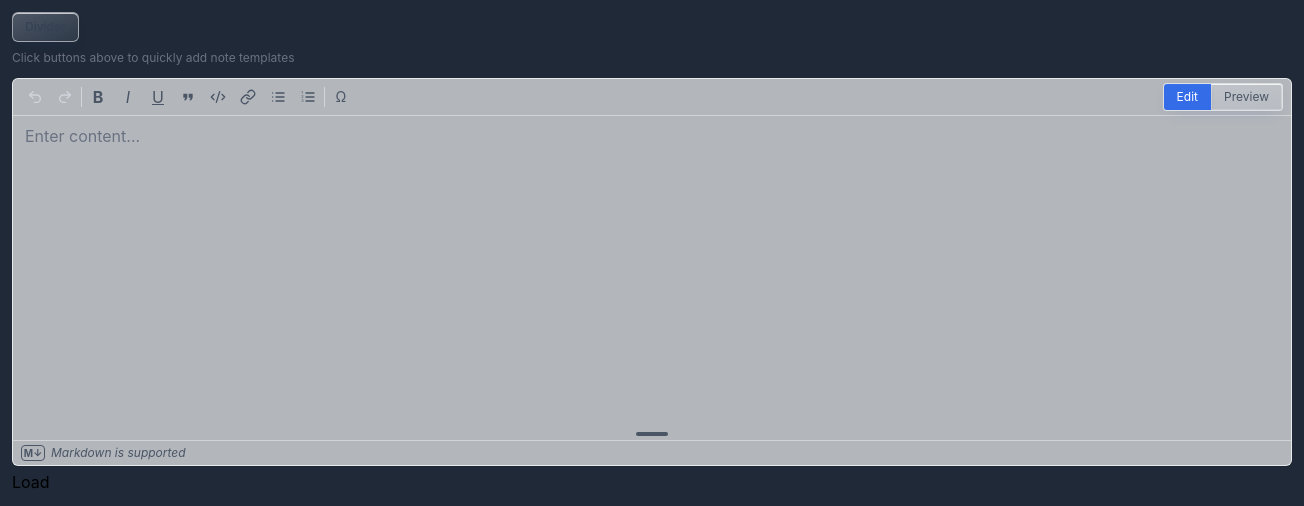
MarkdownEditorField undo / redo › undoes and redoes an inserted template as a single step
Click the button "Divider": {"x": 45, "y": 27} [12,12,79,42]
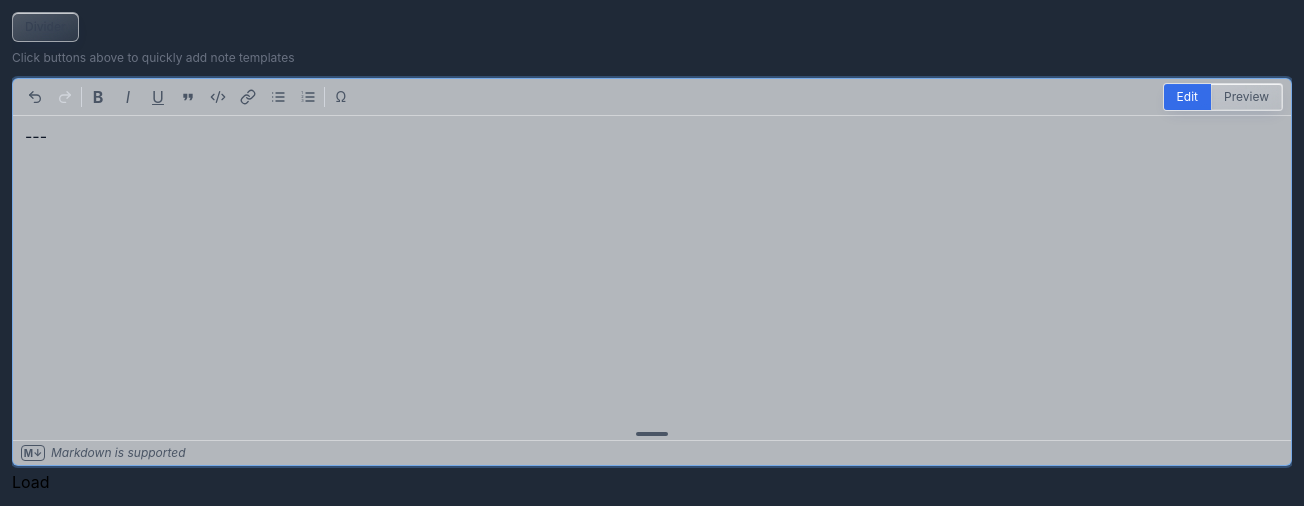
Check: the button named "Redo" is disabled, box [51,83,79,111]
Check: the text box holds "---"
Check: the button named "Undo" is enabled
Click the button named "Undo": {"x": 35, "y": 97} [21,83,49,111]
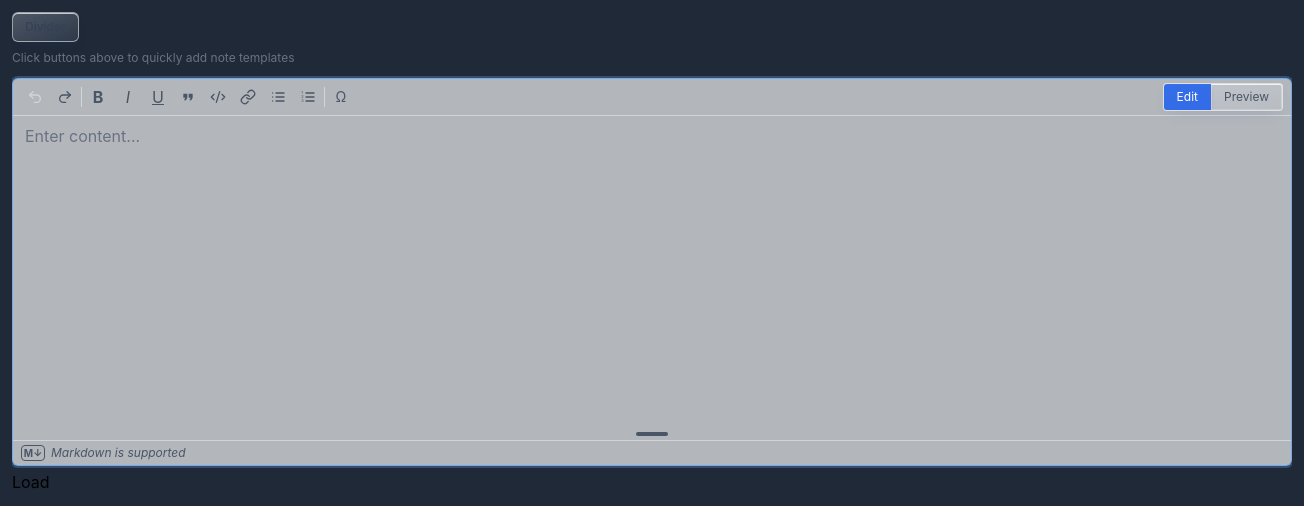
Check: the text box is empty
Check: the button named "Undo" is disabled, box [21,83,49,111]
Check: the button named "Redo" is enabled
Click the button named "Redo": {"x": 65, "y": 97} [51,83,79,111]
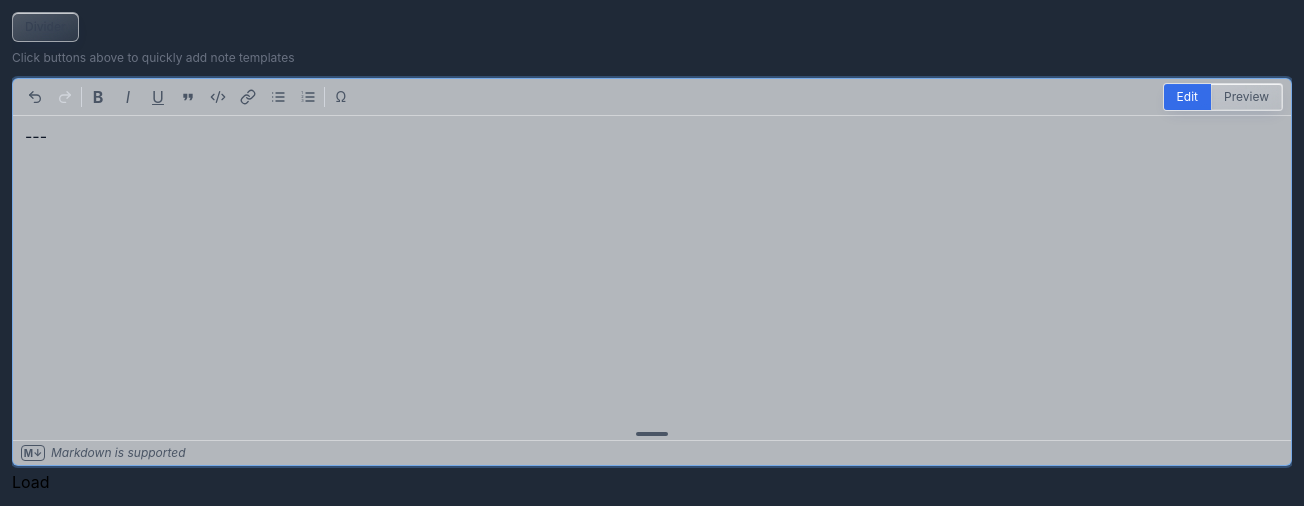
Check: the text box holds "---"
Check: the button named "Undo" is enabled, box [21,83,49,111]
Check: the button named "Redo" is disabled, box [51,83,79,111]
